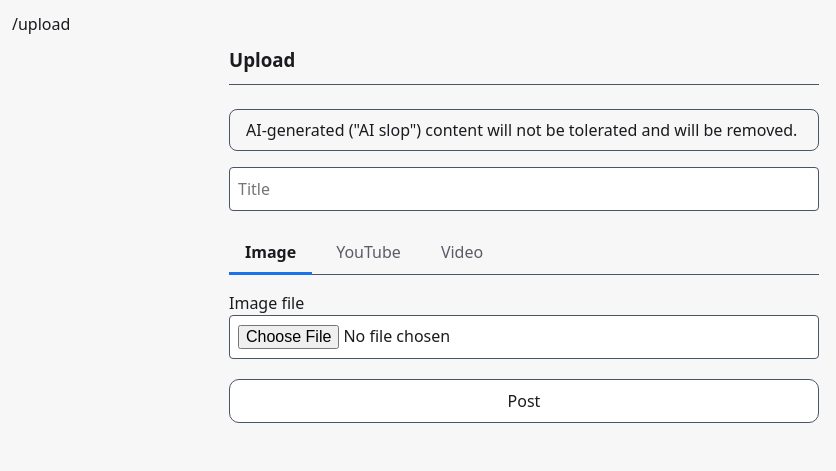
Scenario: UploadPage › drops the departed tab stale field error when switching tabs
This screenshot has width=836, height=471.
# Force an image field error (submit in image mode with no file, but a title present).
Type "My meme" into the field labelled "Title".
click(524, 189); type("My meme")  # box x1=229 y1=167 x2=819 y2=211
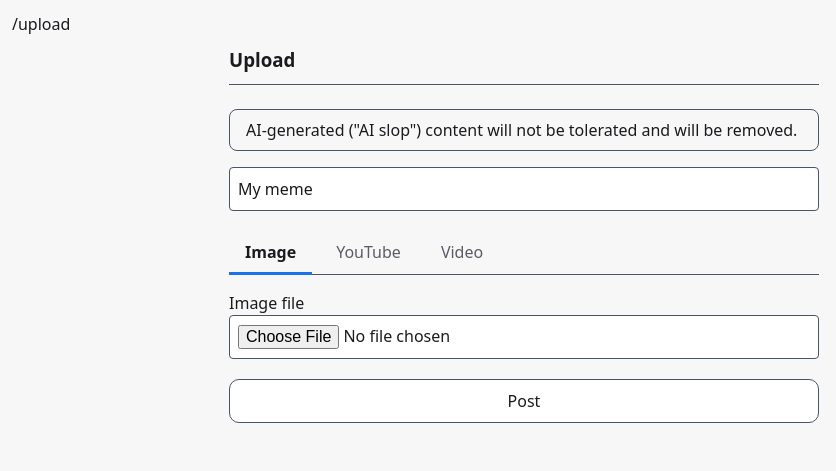
Click the button "Post".
click(524, 401)  # box x1=229 y1=379 x2=819 y2=423
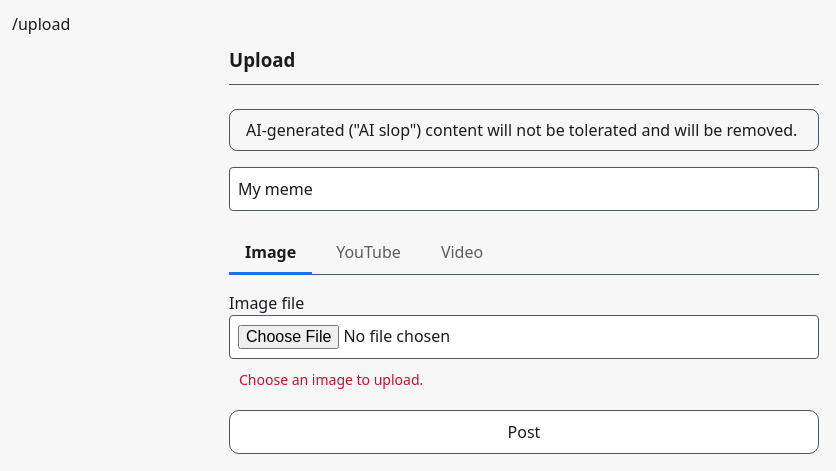
expect the message shows "Choose an image": met, box x1=239 y1=370 x2=423 y2=389
Click the tab "YouTube".
click(369, 253)  # box x1=320 y1=231 x2=417 y2=275
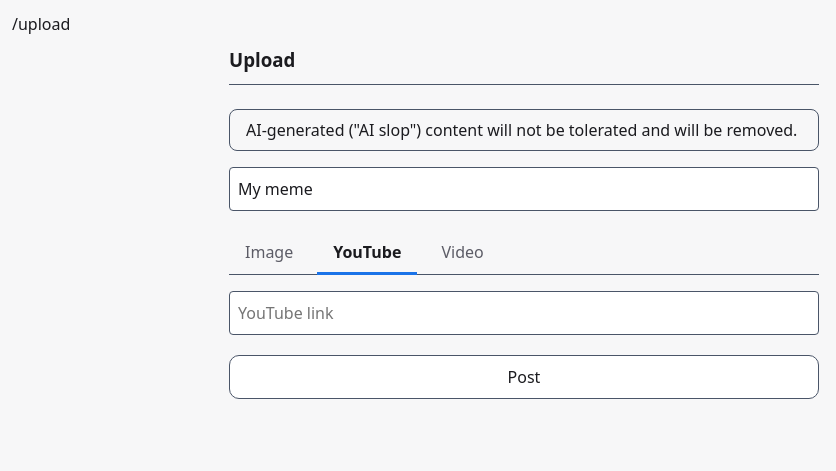
expect the message "Choose an image to upload." is gone: met
